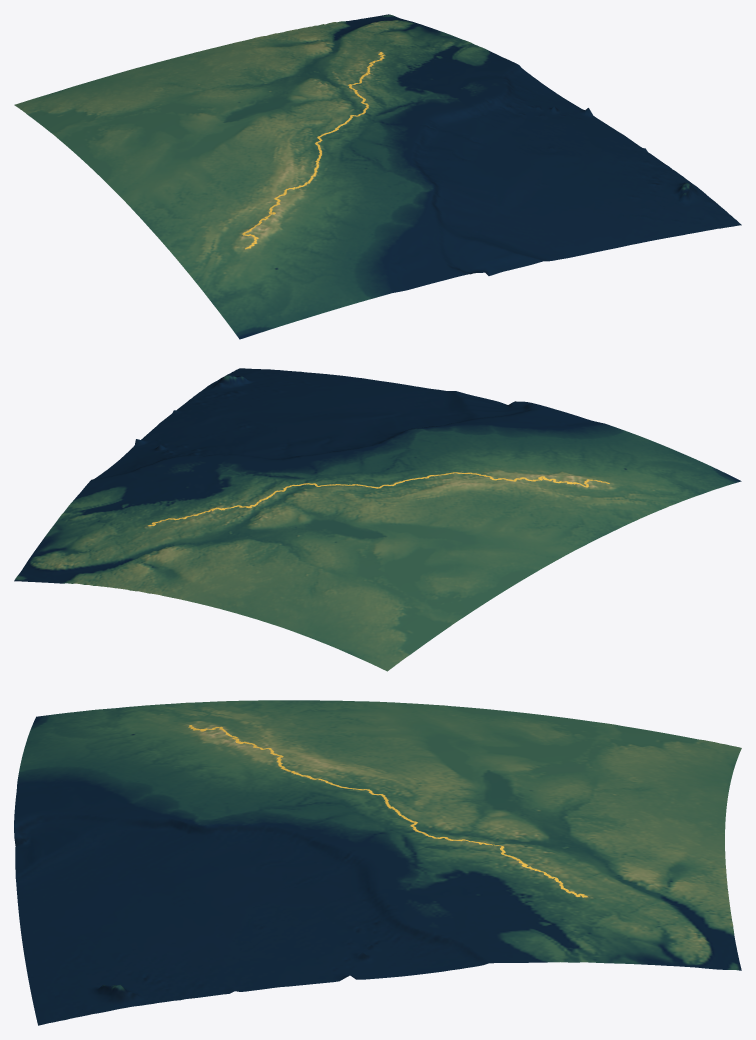
The model's file is terrain3d2-appalachian-trail.glb.
3 renders of one model, top to bottom at view 1: azimuth 30°, elevation 25°; view 2: azimuth 150°, elevation 25°; view 3: azimuth 270°, elevation 25°, orthographic. The views are drawn at different scales.
Visible parts, largest first — view 1: Recorded terrain elevations; view 2: Recorded terrain elevations; view 3: Recorded terrain elevations.
Boxes of the visible parts, bbox=[...] form: Recorded terrain elevations: bbox=[14, 14, 741, 339]; Recorded terrain elevations: bbox=[14, 368, 741, 671]; Recorded terrain elevations: bbox=[14, 700, 741, 1025].
Size of the model in its own units: 2193216 by 222581 by 2263472.
Materials: 1 (1 with a texture image).
